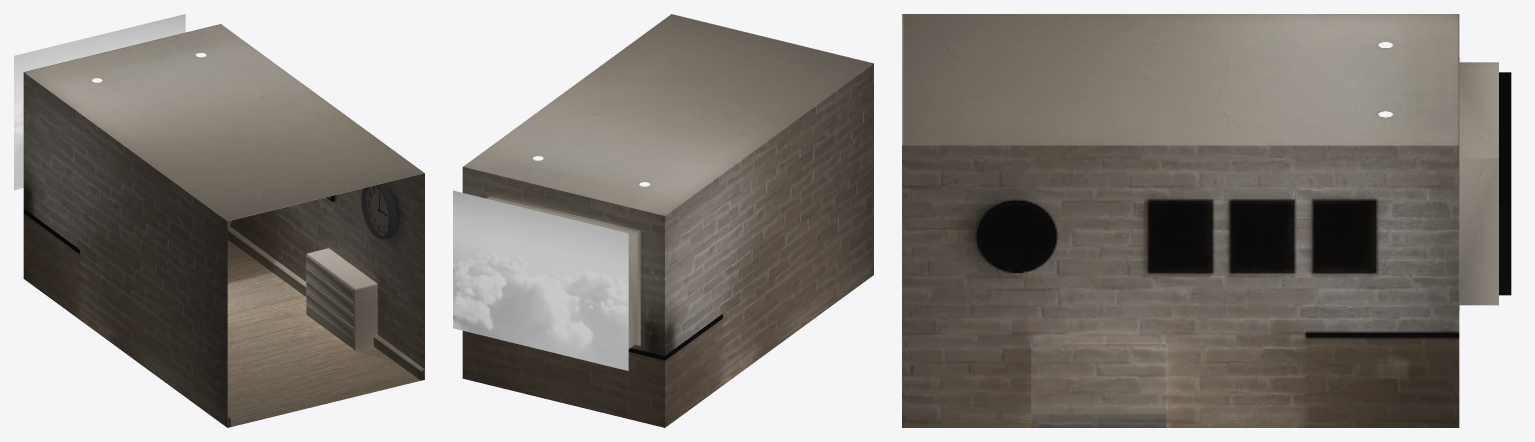
File: room-office-small.glb
3 renders of one model, left to right at view 1: azimuth 30°, elevation 25°; view 2: azimuth 150°, elevation 25°; view 3: azimuth 270°, elevation 25°, orthographic. The views are drawn at different scales.
Visible parts, largest first — view 1: Small_Office_Wall_0, Small_Office_Roof_0, Small_Office_Floor_0, Small_Office_Cupboard_0, Backdrop_Backdrop_0, Small_Office_SkirtingBoard_0, Small_Office_ClockWindow_0, Small_Office_Clockface_0, Small_Office_ClockOutside_0; view 2: Small_Office_Wall_0, Small_Office_Roof_0, Backdrop_Backdrop_0; view 3: Small_Office_Wall_0, Small_Office_Roof_0, Small_Office_Cupboard_0, Small_Office_Bin_0.
Boxes of the visible parts, x1=… form: Small_Office_Wall_0: x1=23, y1=72, x2=424, y2=427; Small_Office_Roof_0: x1=24, y1=24, x2=424, y2=221; Small_Office_Floor_0: x1=227, y1=240, x2=424, y2=427; Small_Office_Cupboard_0: x1=306, y1=248, x2=377, y2=350; Backdrop_Backdrop_0: x1=14, y1=14, x2=185, y2=190; Small_Office_SkirtingBoard_0: x1=227, y1=226, x2=424, y2=427; Small_Office_ClockWindow_0: x1=363, y1=186, x2=388, y2=236; Small_Office_Clockface_0: x1=366, y1=185, x2=389, y2=235; Small_Office_ClockOutside_0: x1=361, y1=183, x2=397, y2=239; Small_Office_Wall_0: x1=462, y1=63, x2=873, y2=427; Small_Office_Roof_0: x1=463, y1=14, x2=873, y2=348; Backdrop_Backdrop_0: x1=453, y1=190, x2=628, y2=370; Small_Office_Wall_0: x1=902, y1=145, x2=1459, y2=427; Small_Office_Roof_0: x1=902, y1=14, x2=1498, y2=309; Small_Office_Cupboard_0: x1=1031, y1=344, x2=1166, y2=427; Small_Office_Bin_0: x1=1499, y1=72, x2=1511, y2=295.
Bounding box in the file's own units: 2.02 × 2.01 × 4.
Materials: 24 (24 with a texture image).
